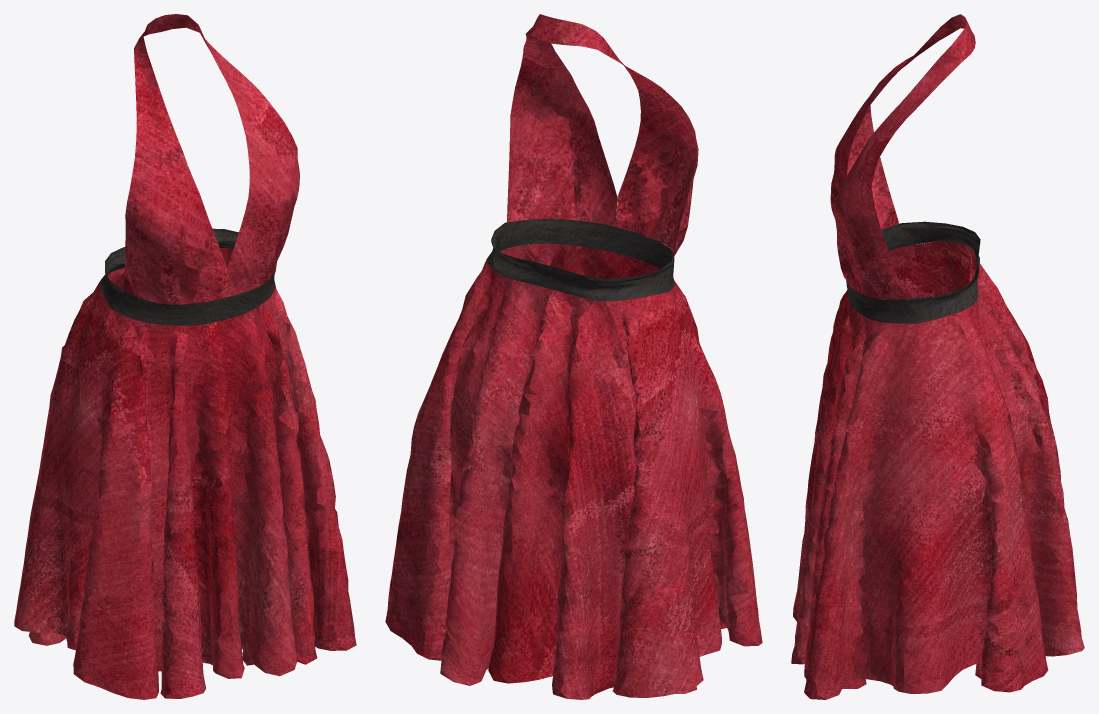
The model's file is elvs-halter-dress-knee-length.glb.
3 renders of one model, left to right at view 1: azimuth 30°, elevation 25°; view 2: azimuth 150°, elevation 25°; view 3: azimuth 270°, elevation 25°, orthographic. The views are drawn at different scales.
Visible parts, largest first — view 1: halter dress knee length; view 2: halter dress knee length; view 3: halter dress knee length.
Boxes of the visible parts, x1,y1,x2,y2 form: halter dress knee length: (14, 14, 356, 699); halter dress knee length: (385, 14, 762, 699); halter dress knee length: (791, 14, 1084, 699).
Size of the model in its own units: 50.14 by 104 by 43.46.
1 material, 1 textured.
